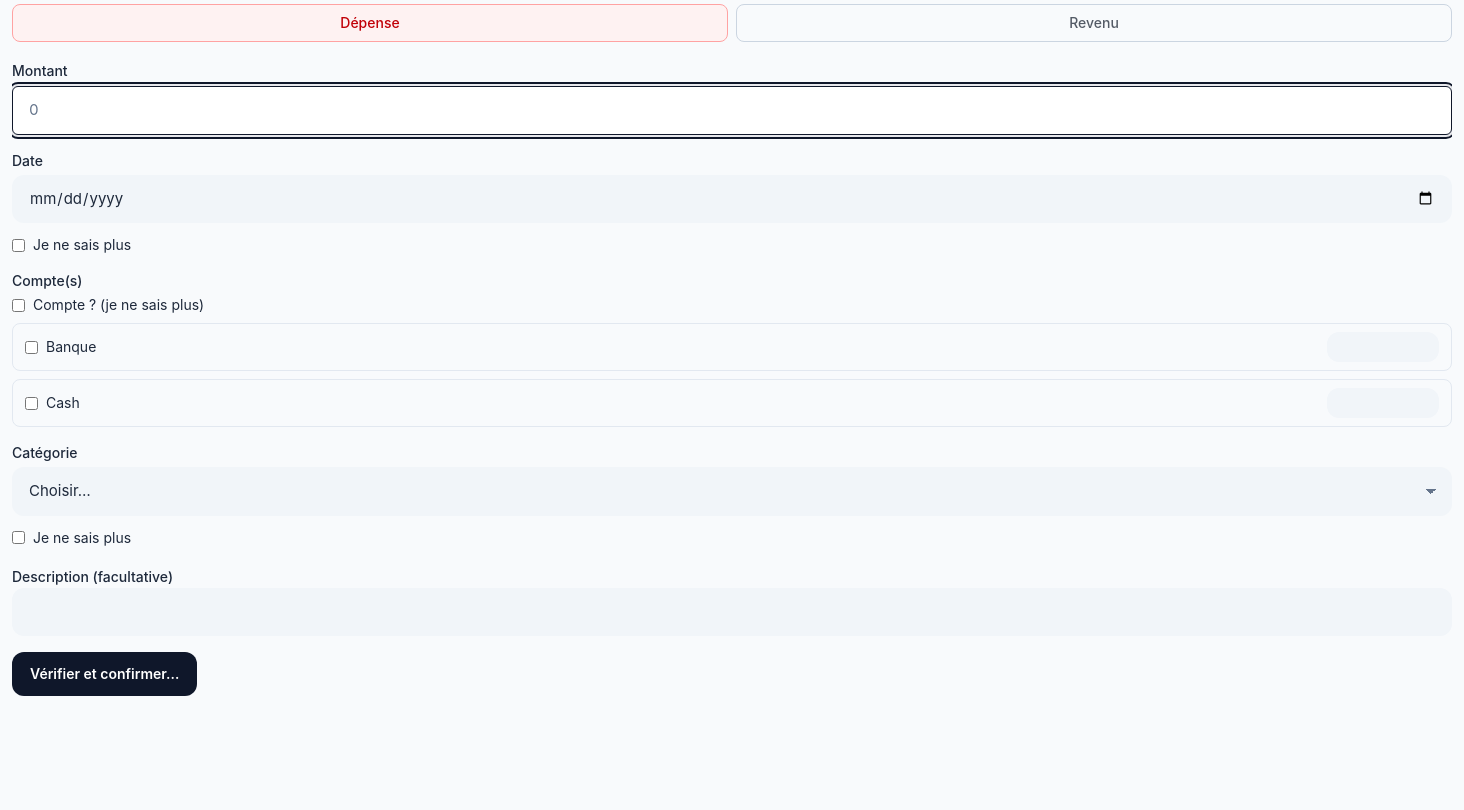
Test: TransactionForm — activation d’une allocation de compte › cocher « Ajouter Banque » après le montant pré-remplit le reste non alloué
This screenshot has width=1464, height=810.
Type "12000" into the field with placeholder "0".
click(732, 110); type("12000")  # box [12,86,1452,134]
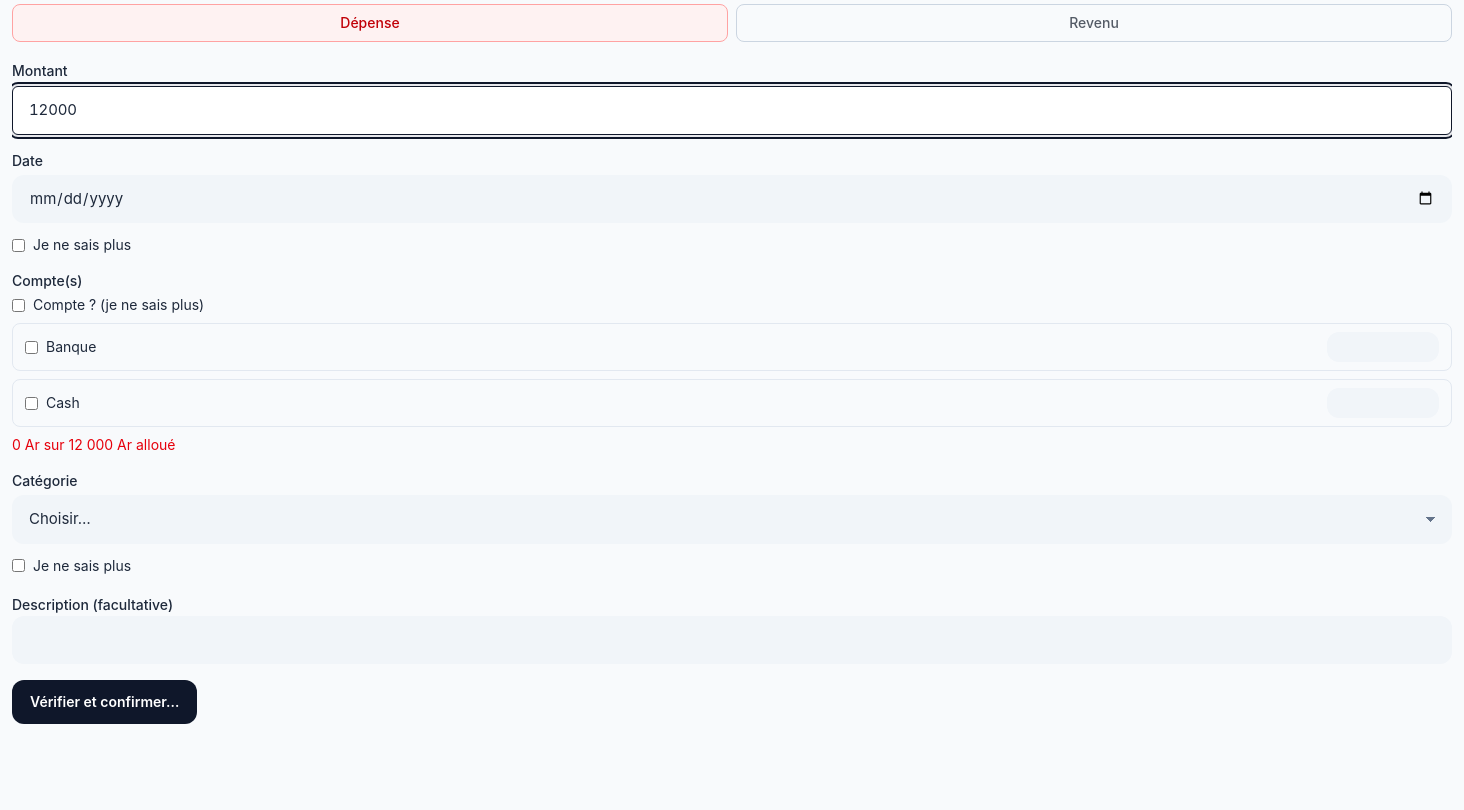
Click the checkbox named "Ajouter Banque".
click(32, 347)  # box [25,340,38,354]
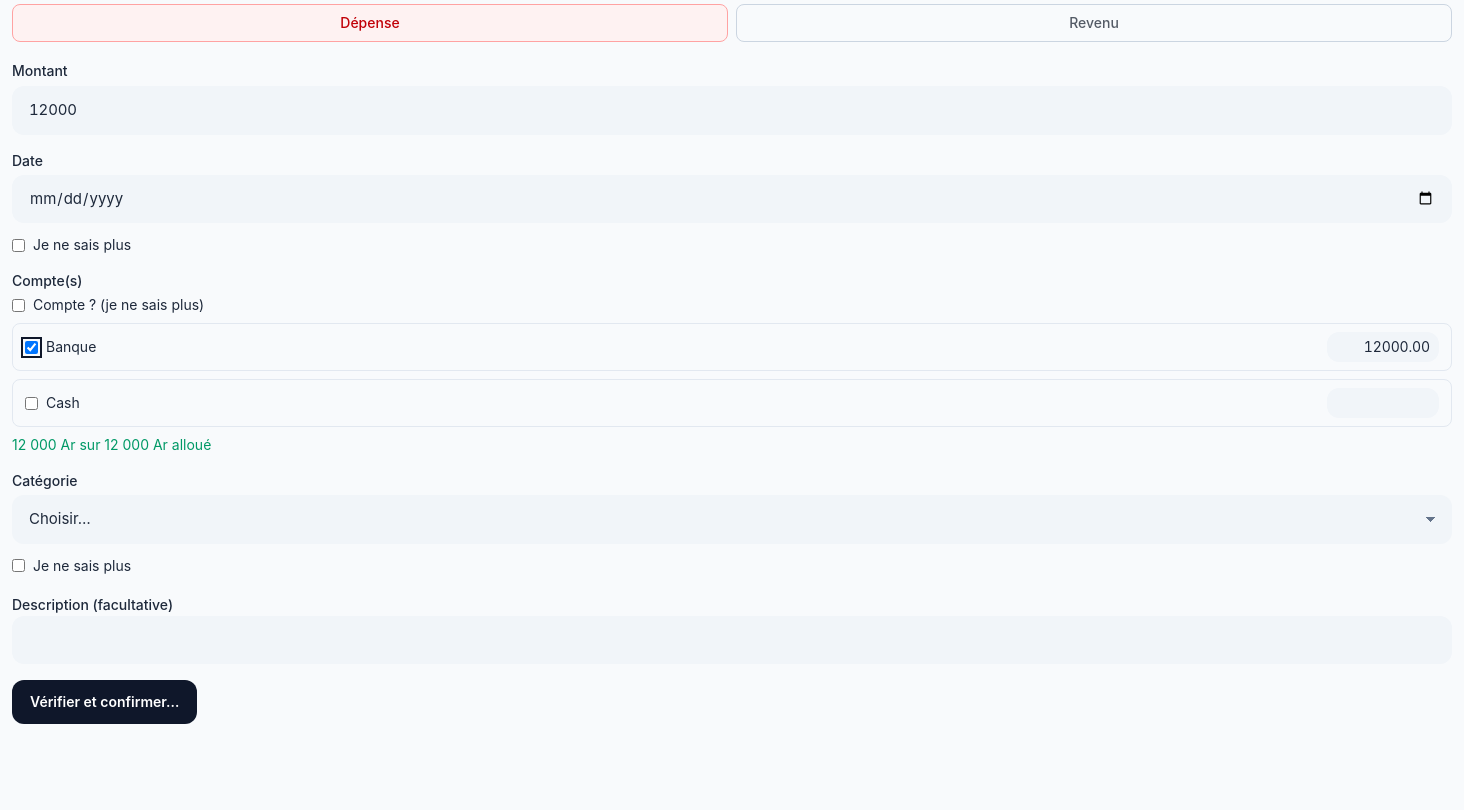
Expected: the element named "Ajouter Banque" is shown, [12,323,1452,371]
Expected: the field with placeholder "Montant…" in the row of "Banque" holds "12000.00", [1327,332,1439,362]
Expected: the field with placeholder "Montant…" in the row of "Banque" is enabled, [1327,332,1439,362]
